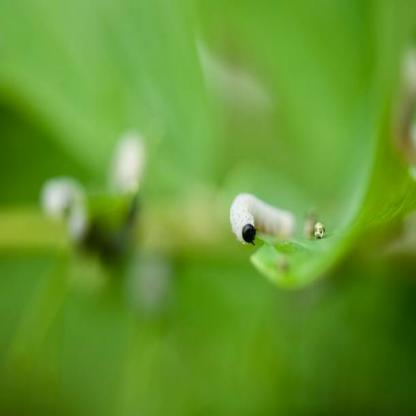sawfly: (229, 182, 299, 252)
